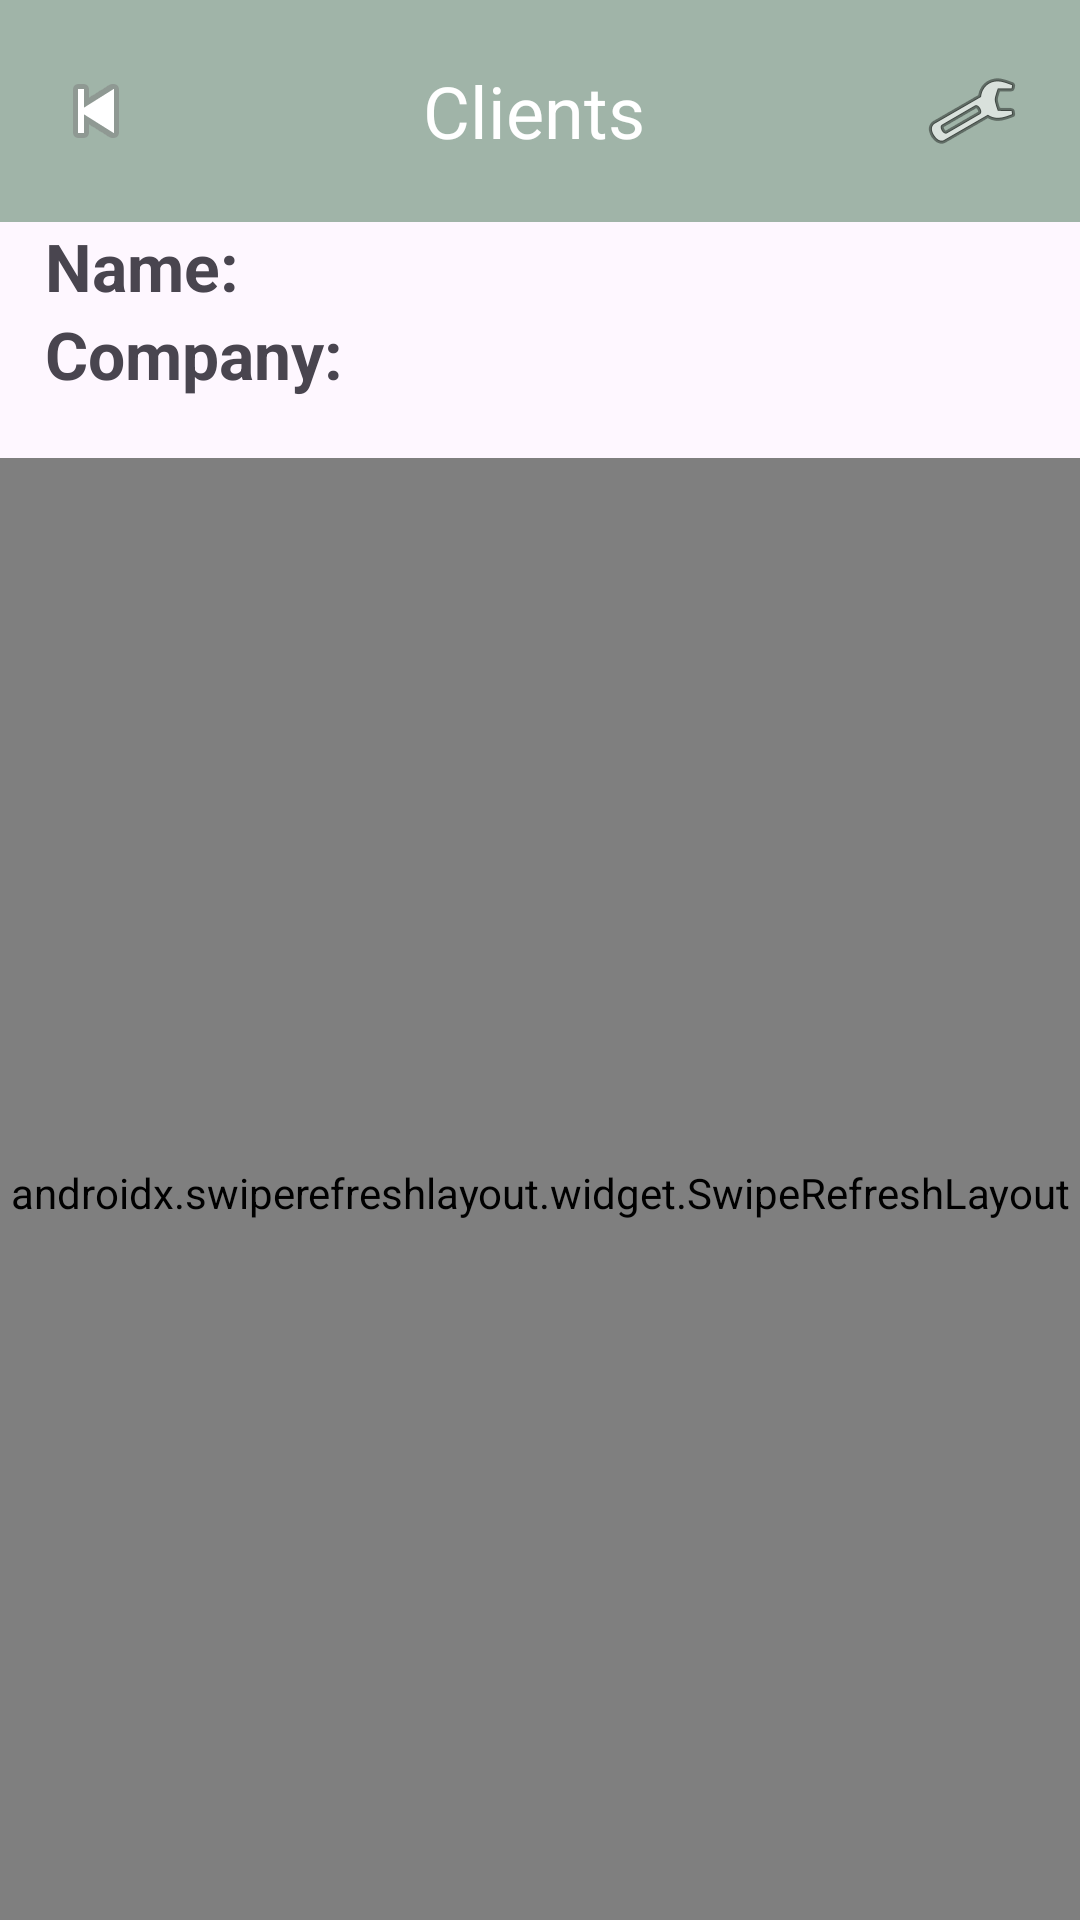

Where to tap for icons on this 1080*1920 app screen, as [x,y]:
manage: [972,111]
previous: [96,111]
